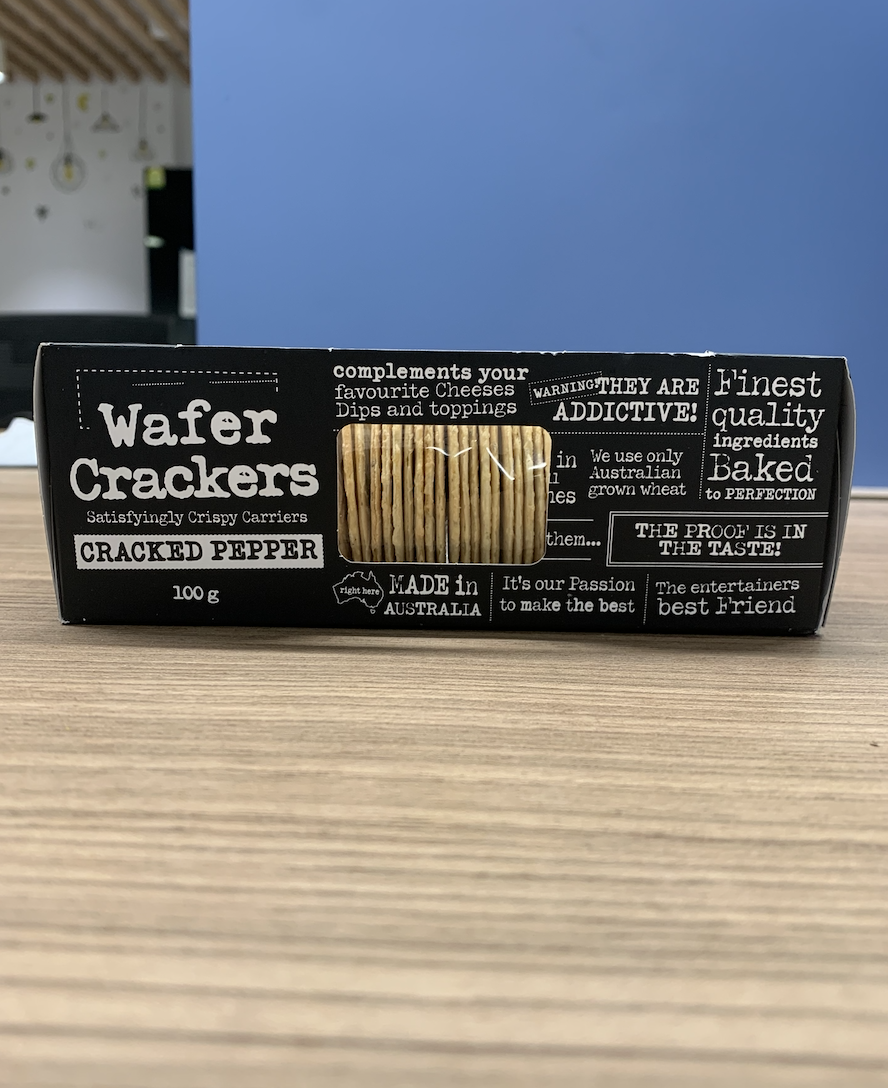crackers_100g-199g: (63, 360, 826, 625)
